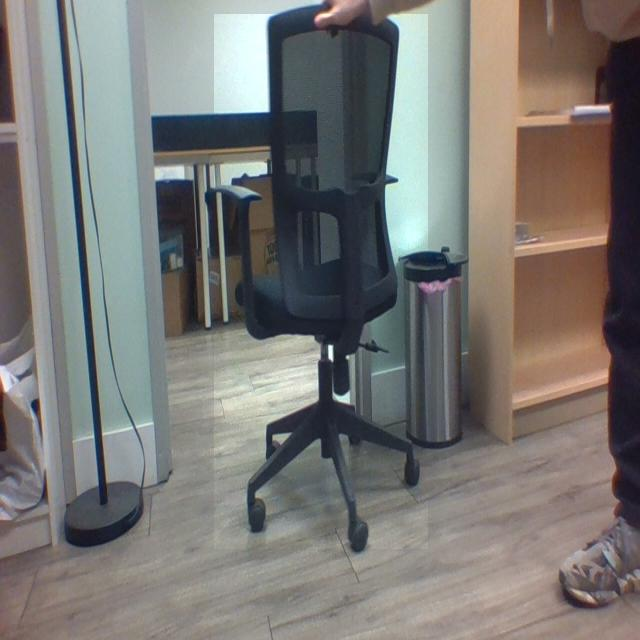black-chair: (214, 14, 429, 550)
